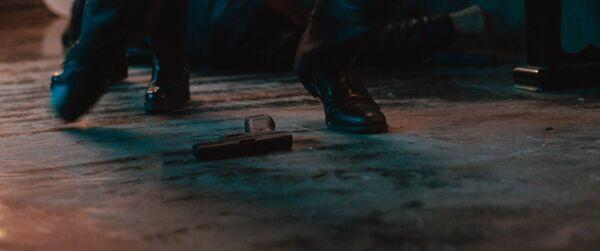Gun: (192, 110, 294, 163)
